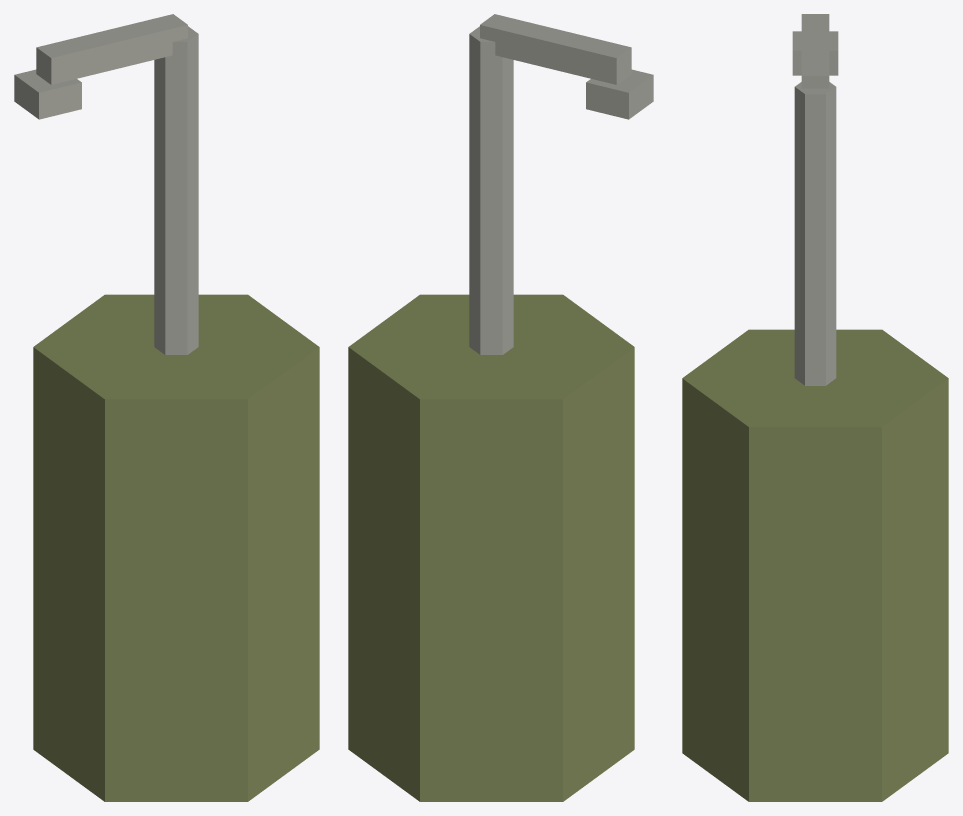
File: SM_PosteFoco_v3_Bidon_LOD1.fbx
3 views of the same model, side by side, from view 1: azimuth 30°, elevation 25°; view 2: azimuth 150°, elevation 25°; view 3: azimuth 270°, elevation 25° (orthographic). The views are drawn at different scales.
Visible parts, largest first — view 1: SM_poste_foco_v3_LOD1; view 2: SM_poste_foco_v3_LOD1; view 3: SM_poste_foco_v3_LOD1.
Part boxes in pixels (x1,y1,x2,y2): SM_poste_foco_v3_LOD1: (14,14,319,801); SM_poste_foco_v3_LOD1: (348,14,653,801); SM_poste_foco_v3_LOD1: (682,14,948,801).
Bounding box in the file's own units: 0.6011 × 1.63 × 0.58.
